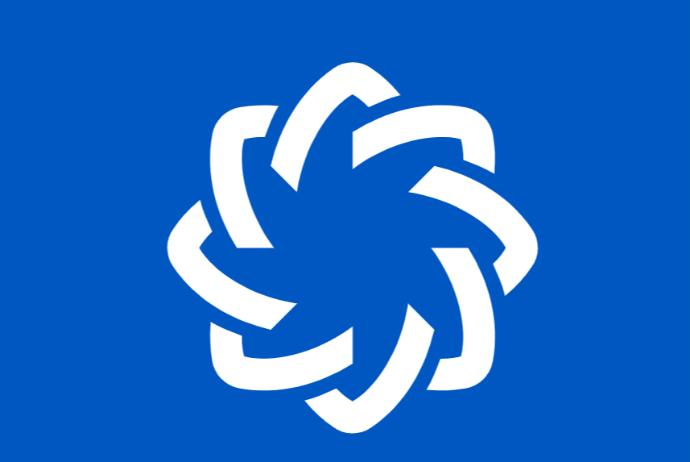ABB: (164, 57, 541, 436)
